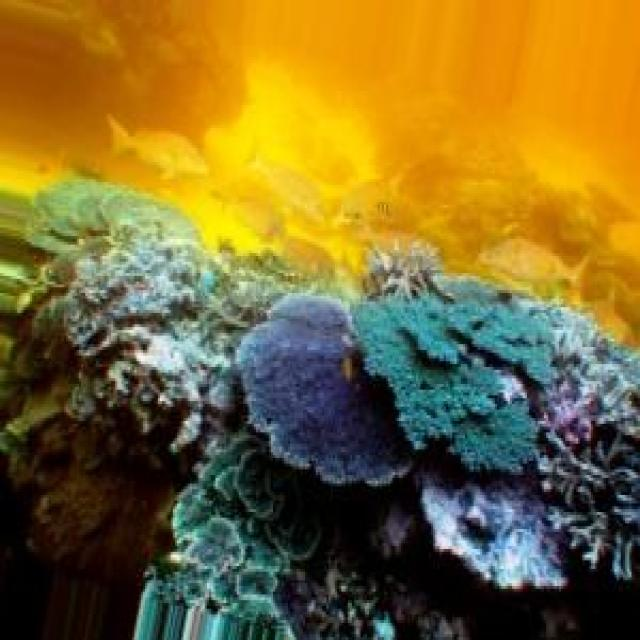Healthy: (355, 308, 640, 593), (24, 180, 246, 470), (351, 294, 549, 482), (238, 297, 415, 493)
